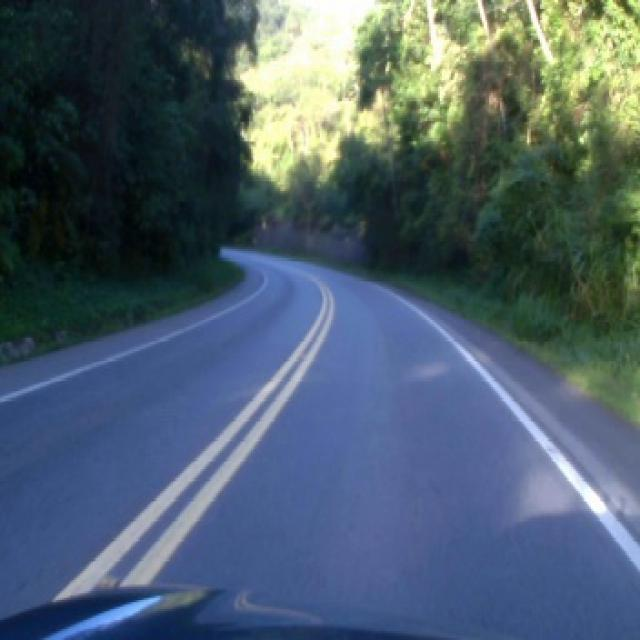Poth-hole: (92, 573, 119, 587)
